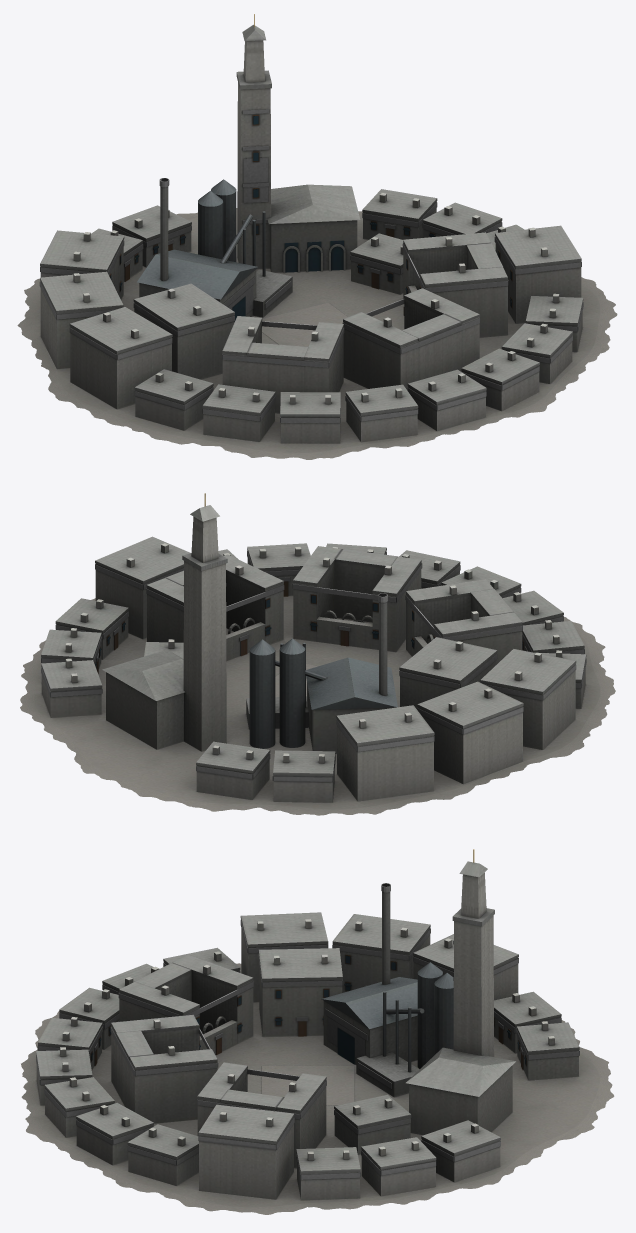
The model's file is modern-town-big-b-maghreb.glb.
3 views of the same model, one above another, from view 1: azimuth 30°, elevation 25°; view 2: azimuth 150°, elevation 25°; view 3: azimuth 270°, elevation 25° (orthographic).
Parts seen in each view (by area): view 1: LOD0; view 2: LOD0; view 3: LOD0.
Boxes of the visible parts, x1,y1,x2,y2 form: LOD0: (17, 14, 617, 459); LOD0: (20, 493, 615, 815); LOD0: (21, 849, 614, 1214).
Size of what is drawn, in the model's own units: 8.04 by 3.6 by 7.91.
3 materials, 3 textured.
